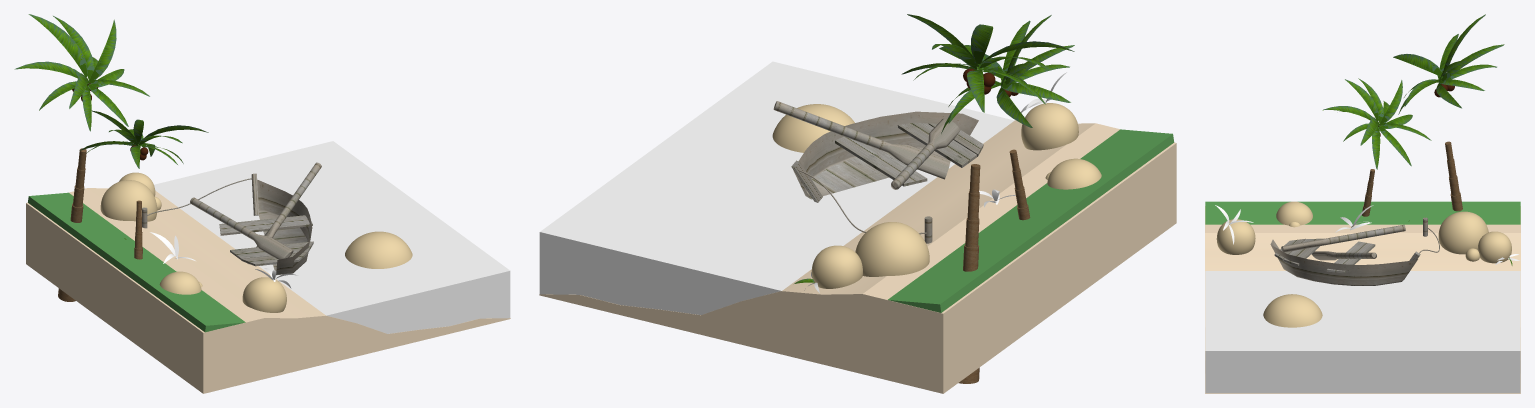
The model's file is leaves.glb.
The picture shows the model from 3 angles, left to right: view 1: azimuth 30°, elevation 25°; view 2: azimuth 150°, elevation 25°; view 3: azimuth 270°, elevation 25°; orthographic projection. The views are drawn at different scales.
Visible parts, largest first — view 1: вода, песок, трава, Plane, Cube.007, Cube.005, Cube.006, Cylinder, Cube.002, Cylinder.002, Plane.012, Cube.009 (+5 smaller); view 2: вода, песок, трава, Plane, Cube.005, Cylinder.001, Cube.006, Cube.007, Cube.003, Cylinder.002, Cube.002, Cube.009 (+5 smaller); view 3: вода, песок, трава, Plane, Cube.005, Cube.007, Cube.006, Cylinder, Cube.003, Cube.009, Cylinder.002, Cylinder.001 (+9 smaller).
Part boxes in pixels (box(x1,y1,x2,y2)): вода: box(154, 141, 510, 333); песок: box(26, 188, 510, 393); трава: box(28, 192, 245, 332); Plane: box(257, 180, 312, 275); Cube.007: box(345, 231, 412, 268); Cube.005: box(100, 180, 157, 221); Cube.006: box(242, 277, 286, 312); Cylinder: box(190, 197, 293, 259); Cube.002: box(219, 215, 312, 235); Cylinder.002: box(58, 148, 86, 301); Plane.012: box(28, 14, 87, 76); Cube.009: box(159, 271, 201, 294); вода: box(539, 61, 1014, 314); песок: box(539, 120, 1176, 393); трава: box(888, 129, 1174, 312); Plane: box(793, 111, 978, 199); Cube.005: box(855, 222, 929, 276); Cylinder.001: box(773, 101, 950, 179); Cube.006: box(1021, 103, 1078, 150); Cube.007: box(772, 104, 854, 152); Cube.003: box(811, 245, 862, 288); Cylinder.002: box(959, 164, 980, 383); Cube.002: box(835, 136, 927, 186); Cube.009: box(1047, 158, 1101, 189); вода: box(1205, 271, 1520, 393); песок: box(1205, 206, 1520, 393); трава: box(1205, 201, 1520, 224); Plane: box(1270, 239, 1417, 285); Cube.005: box(1438, 211, 1488, 254); Cube.007: box(1263, 294, 1322, 327); Cube.006: box(1216, 219, 1255, 254); Cylinder: box(1281, 225, 1405, 252); Cube.003: box(1477, 231, 1511, 263); Cube.009: box(1276, 201, 1312, 225); Cylinder.002: box(1445, 141, 1462, 211); Cylinder.001: box(1311, 251, 1376, 260).
Size of what is drawn, in the model's own units: 2.31 by 1.77 by 2.
9 materials, 3 textured.
